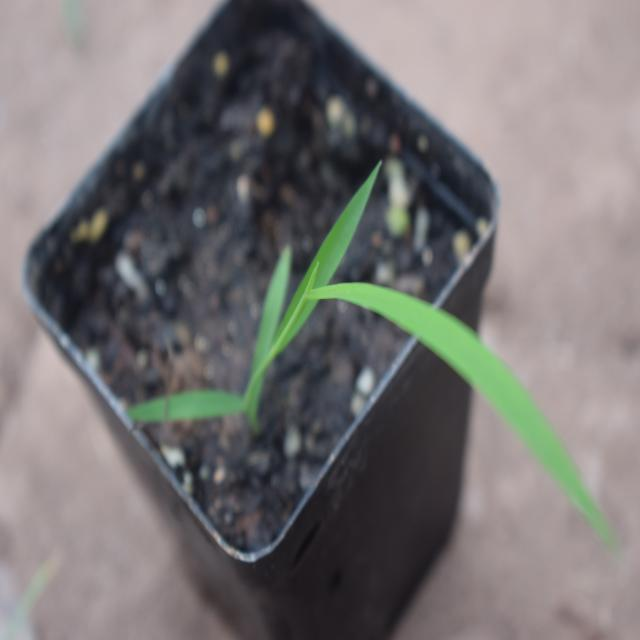crabgrass: (192, 164, 584, 506)
